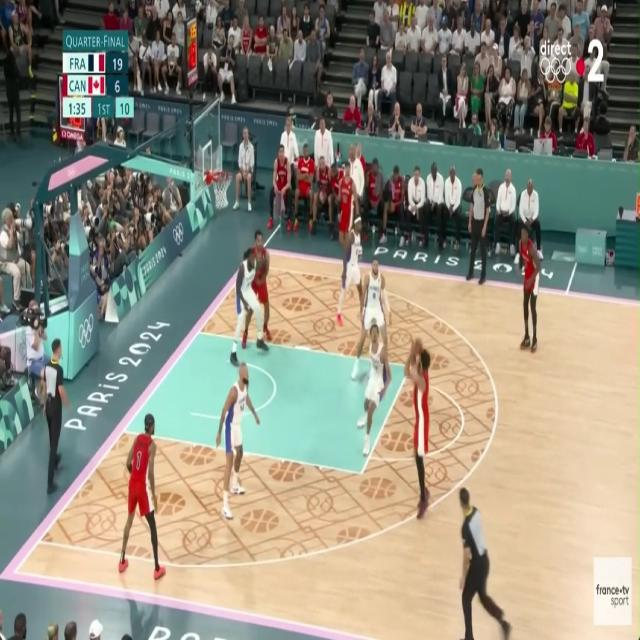ball_handler: (406, 334, 431, 521)
